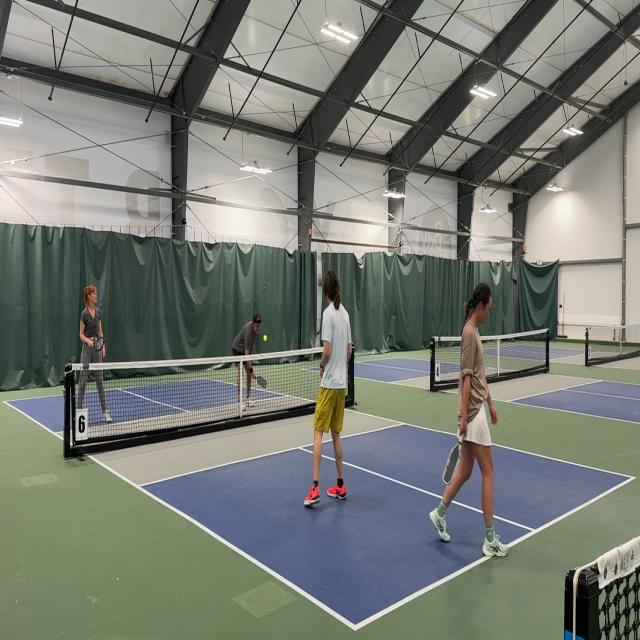ball: (262, 333, 268, 343)
